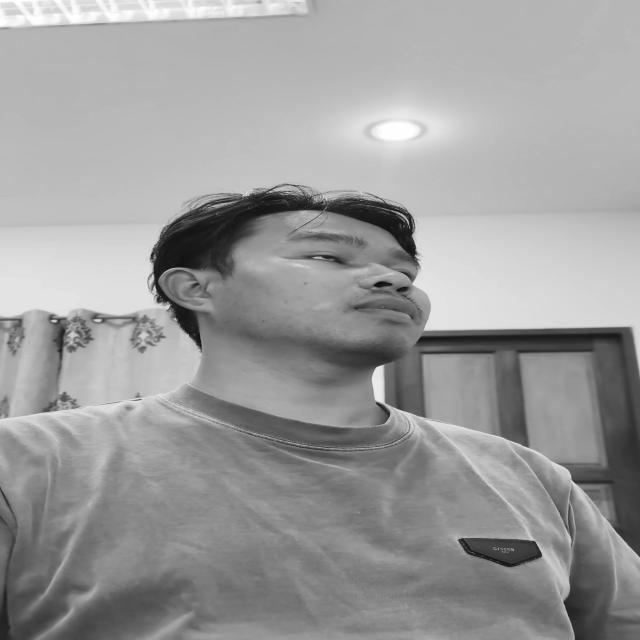ear: (159, 268, 220, 313)
